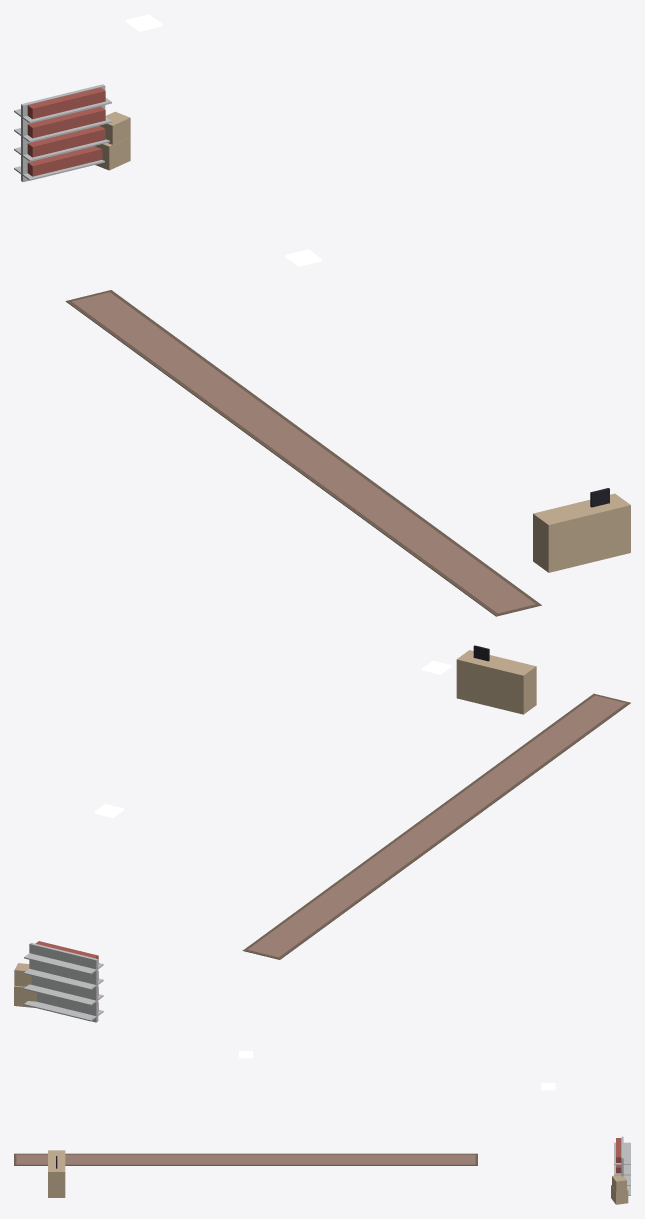
The model's file is fine-s0.glb.
3 views of the same model, one above another, from view 1: azimuth 30°, elevation 25°; view 2: azimuth 150°, elevation 25°; view 3: azimuth 270°, elevation 25° (orthographic). The views are drawn at different scales.
Visible parts, largest first — view 1: soft-s0, shelving.000, shop-counter.000, cardboard-box.000; view 2: soft-s0, shelving.000, shop-counter.000, cardboard-box.000; view 3: soft-s0, shop-counter.000, shelving.000, cardboard-box.000.
Boxes of the visible parts, x1,y1,x2,y2 form: soft-s0: (65,290,541,616); shelving.000: (14,84,111,181); shop-counter.000: (533,488,630,572); cardboard-box.000: (95,111,130,170); soft-s0: (242,693,630,959); shelving.000: (24,941,103,1022); shop-counter.000: (456,645,536,714); cardboard-box.000: (14,963,37,1007); soft-s0: (14,1153,477,1165); shop-counter.000: (48,1150,65,1197); shelving.000: (614,1136,630,1195); cardboard-box.000: (611,1175,628,1204).
Size of the model in its own units: 4.23 by 4.11 by 21.7.
